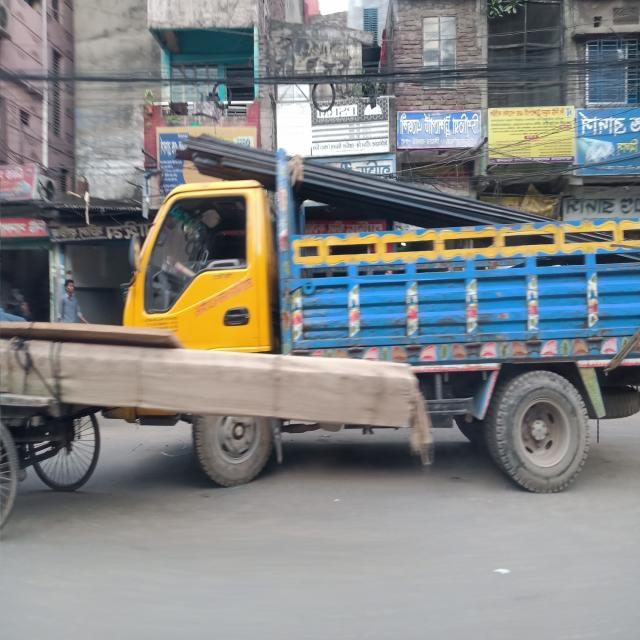truck: (104, 156, 640, 502)
